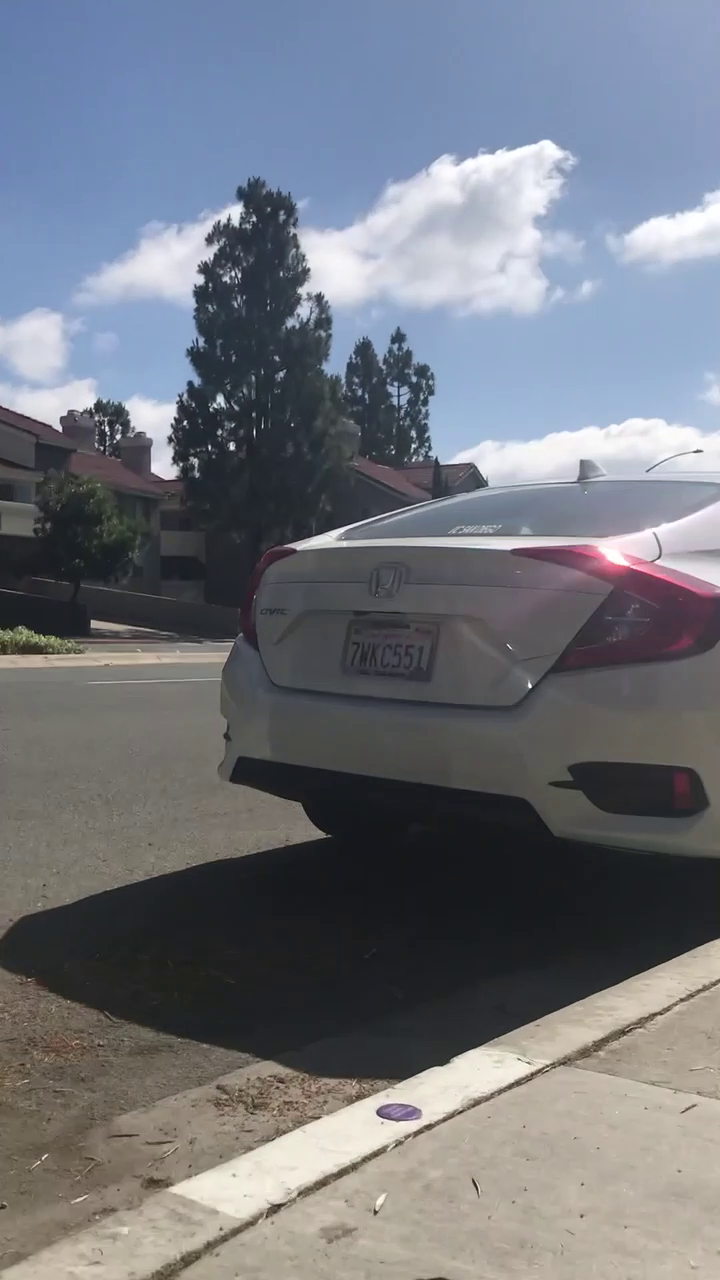car: (211, 471, 720, 882)
